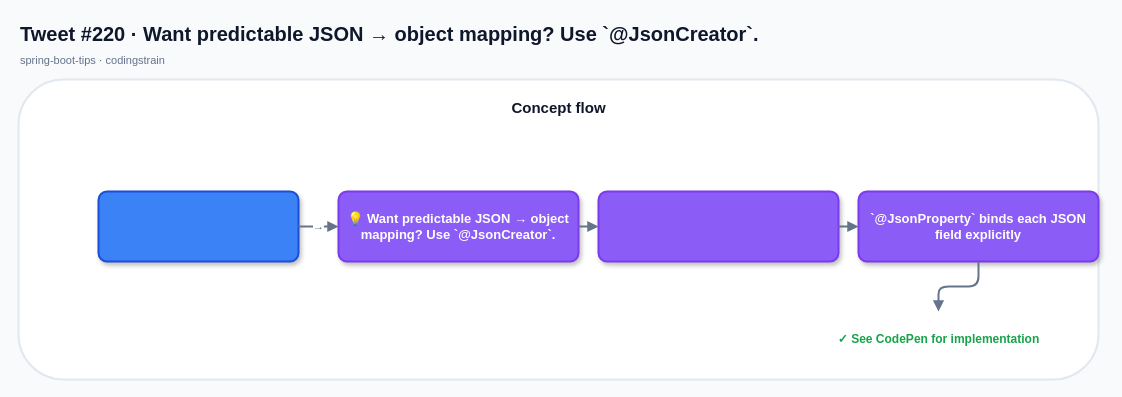
This 1122x397 diagram has some shape labels left out. The centre of each missing label's shape, as x and y in pixels:
"Marks the exact constructor Jackson should call" belongs at point 719,227.
"Problem / context" belongs at point 199,227.
